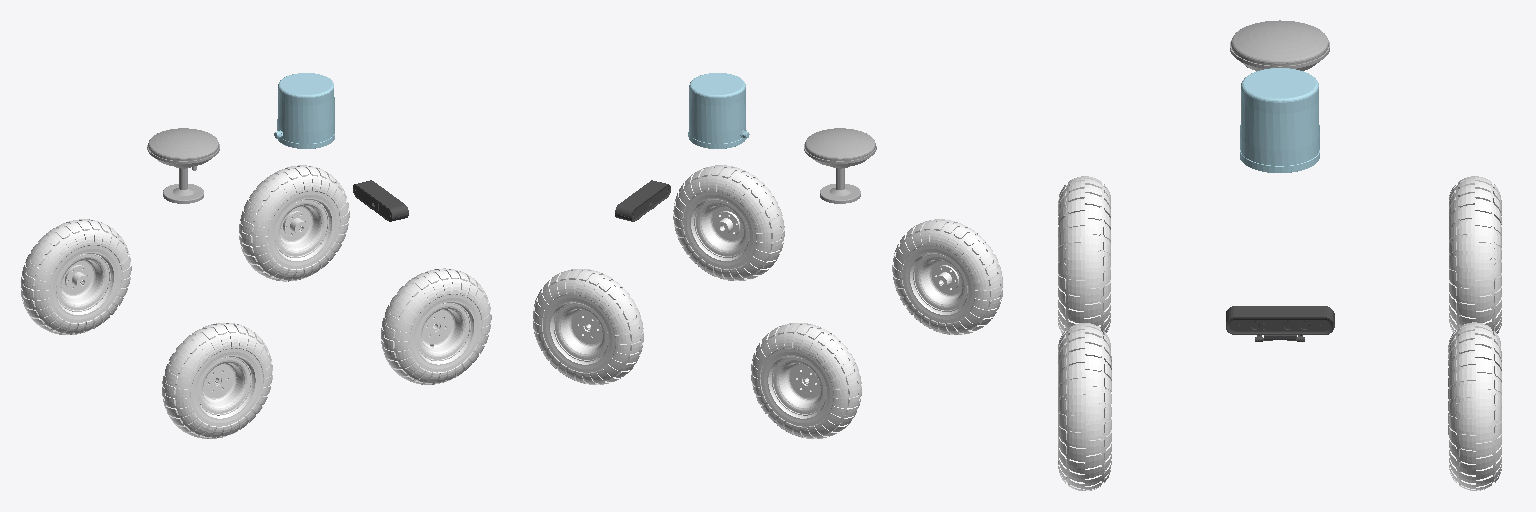
URDF robot description (outdoor_robot_signal_antenna):
<?xml version="1.0" encoding="utf-8"?>
<!-- This URDF was automatically created by SolidWorks to URDF Exporter! Originally created by [author] ([email redacted]) 
     Commit Version: 1.6.0-4-g7f85cfe  Build Version: 1.6.7995.38578
     For more information, please see http://wiki.ros.org/sw_urdf_exporter -->
<robot
  name="outdoor_robot_signal_antenna">
  <link
    name="base_link">
    <inertial>
      <origin
        xyz="-0.074353 0.015107 0.075824"
        rpy="0 0 0" />
      <mass
        value="11.902" />
      <inertia
        ixx="0.1269"
        ixy="6.3806E-05"
        ixz="-0.00080196"
        iyy="0.085732"
        iyz="-2.0152E-05"
        izz="0.18939" />
    </inertial>
    <visual>
      <origin
        xyz="0 0 0"
        rpy="0 0 0" />
      <geometry>
        <mesh
          filename="package://wheeltec_robot_urdf/meshes/autoware_top_akm_single_antenna_meshes/base_link.STL" />
      </geometry>
      <material
        name="">
        <color
          rgba="0.74118 0.90196 0.95686 1" />
      </material>
    </visual>
    <collision>
      <origin
        xyz="0 0 0"
        rpy="0 0 0" />
      <geometry>
        <mesh
          filename="package://wheeltec_robot_urdf/meshes/autoware_top_akm_single_antenna_meshes/base_link.STL" />
      </geometry>
    </collision>
  </link>
  <link
    name="lf_wheel_link">
    <inertial>
      <origin
        xyz="2.0036E-05 -0.0022382 0.0002117"
        rpy="0 0 0" />
      <mass
        value="1.102" />
      <inertia
        ixx="0.0060143"
        ixy="-4.5815E-05"
        ixz="-1.3207E-07"
        iyy="0.010609"
        iyz="1.3337E-05"
        izz="0.0060142" />
    </inertial>
    <visual>
      <origin
        xyz="0 0 0"
        rpy="0 0 0" />
      <geometry>
        <mesh
          filename="package://wheeltec_robot_urdf/meshes/autoware_top_akm_single_antenna_meshes/lf_wheel_link.STL" />
      </geometry>
      <material
        name="">
        <color
          rgba="1 1 1 1" />
      </material>
    </visual>
    <collision>
      <origin
        xyz="0 0 0"
        rpy="0 0 0" />
      <geometry>
        <mesh
          filename="package://wheeltec_robot_urdf/meshes/autoware_top_akm_single_antenna_meshes/lf_wheel_link.STL" />
      </geometry>
    </collision>
  </link>
  <joint
    name="lf_wheel_joint"
    type="continuous">
    <origin
      xyz="0.31528 0.29699 0.0066081"
      rpy="0 0 0" />
    <parent
      link="base_link" />
    <child
      link="lf_wheel_link" />
    <axis
      xyz="-0.0099394 0.99995 -0.0028981" />
  </joint>
  <link
    name="lb_wheel_link">
    <inertial>
      <origin
        xyz="-3.0408E-06 -0.002239 0.00020377"
        rpy="0 0 0" />
      <mass
        value="1.102" />
      <inertia
        ixx="0.0060138"
        ixy="-1.2787E-08"
        ixz="-1.7251E-10"
        iyy="0.010609"
        iyz="2.9601E-05"
        izz="0.0060143" />
    </inertial>
    <visual>
      <origin
        xyz="0 0 0"
        rpy="0 0 0" />
      <geometry>
        <mesh
          filename="package://wheeltec_robot_urdf/meshes/autoware_top_akm_single_antenna_meshes/lb_wheel_link.STL" />
      </geometry>
      <material
        name="">
        <color
          rgba="1 1 1 1" />
      </material>
    </visual>
    <collision>
      <origin
        xyz="0 0 0"
        rpy="0 0 0" />
      <geometry>
        <mesh
          filename="package://wheeltec_robot_urdf/meshes/autoware_top_akm_single_antenna_meshes/lb_wheel_link.STL" />
      </geometry>
    </collision>
  </link>
  <joint
    name="lb_wheel_joint"
    type="continuous">
    <origin
      xyz="-0.21055 0.29728 0.0050309"
      rpy="0 0 0" />
    <parent
      link="base_link" />
    <child
      link="lb_wheel_link" />
    <axis
      xyz="0 0.99998 -0.0064377" />
  </joint>
  <link
    name="rf_wheel_link">
    <inertial>
      <origin
        xyz="-8.2751E-05 0.0022363 -0.00021612"
        rpy="0 0 0" />
      <mass
        value="1.102" />
      <inertia
        ixx="0.0060143"
        ixy="-4.5654E-05"
        ixz="2.0461E-07"
        iyy="0.010609"
        iyz="-1.3299E-05"
        izz="0.0060142" />
    </inertial>
    <visual>
      <origin
        xyz="0 0 0"
        rpy="0 0 0" />
      <geometry>
        <mesh
          filename="package://wheeltec_robot_urdf/meshes/autoware_top_akm_single_antenna_meshes/rf_wheel_link.STL" />
      </geometry>
      <material
        name="">
        <color
          rgba="1 1 1 1" />
      </material>
    </visual>
    <collision>
      <origin
        xyz="0 0 0"
        rpy="0 0 0" />
      <geometry>
        <mesh
          filename="package://wheeltec_robot_urdf/meshes/autoware_top_akm_single_antenna_meshes/rf_wheel_link.STL" />
      </geometry>
    </collision>
  </link>
  <joint
    name="rf_wheel_joint"
    type="continuous">
    <origin
      xyz="0.31685 -0.29694 0.0070471"
      rpy="0 0 0" />
    <parent
      link="base_link" />
    <child
      link="rf_wheel_link" />
    <axis
      xyz="-0.0099394 0.99995 -0.0028981" />
  </joint>
  <link
    name="rb_wheel_joint">
    <inertial>
      <origin
        xyz="2.315E-07 0.002239 0.00020379"
        rpy="0 0 0" />
      <mass
        value="1.102" />
      <inertia
        ixx="0.0060138"
        ixy="-1.2548E-08"
        ixz="-3.4897E-09"
        iyy="0.010609"
        iyz="-2.9601E-05"
        izz="0.0060143" />
    </inertial>
    <visual>
      <origin
        xyz="0 0 0"
        rpy="0 0 0" />
      <geometry>
        <mesh
          filename="package://wheeltec_robot_urdf/meshes/autoware_top_akm_single_antenna_meshes/rb_wheel_joint.STL" />
      </geometry>
      <material
        name="">
        <color
          rgba="1 1 1 1" />
      </material>
    </visual>
    <collision>
      <origin
        xyz="0 0 0"
        rpy="0 0 0" />
      <geometry>
        <mesh
          filename="package://wheeltec_robot_urdf/meshes/autoware_top_akm_single_antenna_meshes/rb_wheel_joint.STL" />
      </geometry>
    </collision>
  </link>
  <joint
    name="rb_wheel_joint"
    type="continuous">
    <origin
      xyz="-0.21055 -0.29724 0.0050309"
      rpy="0 0 0" />
    <parent
      link="base_link" />
    <child
      link="rb_wheel_joint" />
    <axis
      xyz="0 0.99998 -0.0064377" />
  </joint>
  <link
    name="mushroom_link">
    <inertial>
      <origin
        xyz="-1.1432E-06 0.00010848 -0.028981"
        rpy="0 0 0" />
      <mass
        value="0.70507" />
      <inertia
        ixx="0.00083839"
        ixy="9.5781E-11"
        ixz="8.5567E-11"
        iyy="0.00084033"
        iyz="1.1975E-06"
        izz="0.0014378" />
    </inertial>
    <visual>
      <origin
        xyz="0 0 0"
        rpy="0 0 0" />
      <geometry>
        <mesh
          filename="package://wheeltec_robot_urdf/meshes/autoware_top_akm_single_antenna_meshes/mushroom_link.STL" />
      </geometry>
      <material
        name="">
        <color
          rgba="0.75294 0.75294 0.75294 1" />
      </material>
    </visual>
    <collision>
      <origin
        xyz="0 0 0"
        rpy="0 0 0" />
      <geometry>
        <mesh
          filename="package://wheeltec_robot_urdf/meshes/autoware_top_akm_single_antenna_meshes/mushroom_link.STL" />
      </geometry>
    </collision>
  </link>
  <joint
    name="mushroom_joint"
    type="fixed">
    <origin
      xyz="-0.12171 2.3862E-05 0.4197"
      rpy="0 0 0" />
    <parent
      link="base_link" />
    <child
      link="mushroom_link" />
    <axis
      xyz="0 0 0" />
  </joint>
  <link
    name="laser_link">
    <inertial>
      <origin
        xyz="-0.00048925 -1.7832E-05 0.0027116"
        rpy="0 0 0" />
      <mass
        value="0.28408" />
      <inertia
        ixx="0.00069265"
        ixy="-2.2006E-08"
        ixz="-5.1015E-06"
        iyy="0.00070191"
        iyz="-5.5999E-08"
        izz="0.000772" />
    </inertial>
    <visual>
      <origin
        xyz="0 0 0"
        rpy="0 0 0" />
      <geometry>
        <mesh
          filename="package://wheeltec_robot_urdf/meshes/autoware_top_akm_single_antenna_meshes/laser_link.STL" />
      </geometry>
      <material
        name="">
        <color
          rgba="0.74118 0.90196 0.95686 1" />
      </material>
    </visual>
    <collision>
      <origin
        xyz="0 0 0"
        rpy="0 0 0" />
      <geometry>
        <mesh
          filename="package://wheeltec_robot_urdf/meshes/autoware_top_akm_single_antenna_meshes/laser_link.STL" />
      </geometry>
    </collision>
  </link>
  <joint
    name="laser_joint"
    type="fixed">
    <origin
      xyz="0.17378 2.375E-05 0.3965"
      rpy="0 0 0" />
    <parent
      link="base_link" />
    <child
      link="laser_link" />
    <axis
      xyz="0 0 0" />
  </joint>
  <link
    name="camera_link">
    <inertial>
      <origin
        xyz="2.9259E-07 -6.1582E-09 3.674E-07"
        rpy="0 0 0" />
      <mass
        value="0.056458" />
      <inertia
        ixx="0.00013086"
        ixy="1.2038E-07"
        ixz="1.6474E-06"
        iyy="1.9178E-05"
        iyz="-2.8268E-08"
        izz="0.0001314" />
    </inertial>
    <visual>
      <origin
        xyz="0 0 0"
        rpy="0 0 0" />
      <geometry>
        <mesh
          filename="package://wheeltec_robot_urdf/meshes/autoware_top_akm_single_antenna_meshes/camera_link.STL" />
      </geometry>
      <material
        name="">
        <color
          rgba="0.37647 0.37647 0.37647 1" />
      </material>
    </visual>
    <collision>
      <origin
        xyz="0 0 0"
        rpy="0 0 0" />
      <geometry>
        <mesh
          filename="package://wheeltec_robot_urdf/meshes/autoware_top_akm_single_antenna_meshes/camera_link.STL" />
      </geometry>
    </collision>
  </link>
  <joint
    name="camera_joint"
    type="fixed">
    <origin
      xyz="0.3557 0.00020075 0.16458"
      rpy="0 0 0" />
    <parent
      link="base_link" />
    <child
      link="camera_link" />
    <axis
      xyz="0 0 0" />
  </joint>
</robot>

--- Facts derived from the render (not from the file) ---
Views: 3 orthographic renders of the robot side by side, from view 1: azimuth 30°, elevation 25°; view 2: azimuth 150°, elevation 25°; view 3: azimuth 270°, elevation 25°.
Model outdoor_robot_signal_antenna with 8 links and 7 joints (4 continuous, 3 fixed), rooted at base_link, posed all joints at 0.
Visible links, largest first — view 1: rb_wheel_joint, rf_wheel_link, lb_wheel_link, lf_wheel_link, laser_link, mushroom_link, camera_link; view 2: lf_wheel_link, rf_wheel_link, lb_wheel_link, rb_wheel_joint, laser_link, mushroom_link, camera_link; view 3: rf_wheel_link, lf_wheel_link, laser_link, rb_wheel_joint, lb_wheel_link, mushroom_link, camera_link.
Boxes of the visible links, box(x1,y1,x2,y2) form: rb_wheel_joint: box(162, 323, 272, 438); rf_wheel_link: box(381, 268, 491, 384); lb_wheel_link: box(20, 219, 131, 334); lf_wheel_link: box(239, 165, 349, 281); laser_link: box(274, 73, 334, 148); mushroom_link: box(147, 128, 219, 203); camera_link: box(353, 180, 408, 221); lf_wheel_link: box(533, 269, 643, 384); rf_wheel_link: box(673, 165, 784, 280); lb_wheel_link: box(751, 323, 861, 438); rb_wheel_joint: box(892, 219, 1003, 334); laser_link: box(688, 73, 749, 148); mushroom_link: box(804, 128, 876, 203); camera_link: box(615, 180, 670, 221); rf_wheel_link: box(1058, 323, 1111, 490); lf_wheel_link: box(1448, 322, 1501, 490); laser_link: box(1240, 68, 1319, 172); rb_wheel_joint: box(1058, 176, 1110, 333); lb_wheel_link: box(1449, 176, 1501, 333); mushroom_link: box(1230, 20, 1329, 70); camera_link: box(1226, 306, 1334, 341).
Size in the robot's own frame: 0.7823 by 0.6719 by 0.6023 metres.
7 mesh visuals loaded from 8 distinct referenced files (7 binary STL); not drawn: 1 (reference not matched to a file when rendering).
